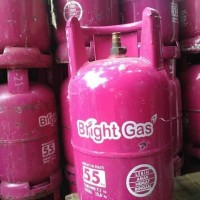bright_gas: (66, 8, 173, 200), (1, 67, 60, 200), (56, 1, 122, 61), (1, 1, 54, 68), (121, 1, 181, 59), (183, 58, 200, 157), (180, 1, 200, 52)
